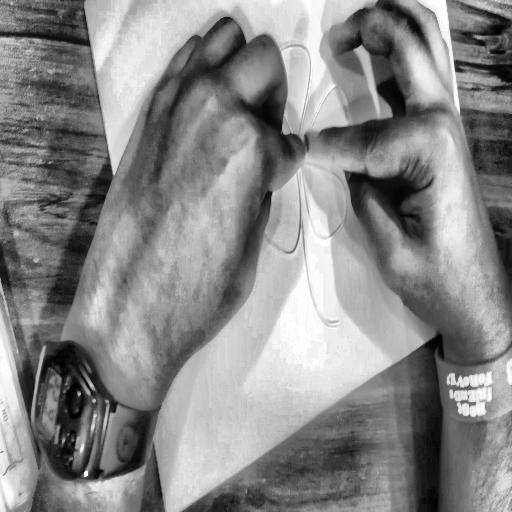bottom_right: (478, 286, 488, 301)
flower: (212, 9, 401, 376)
top_left: (80, 0, 90, 13)
